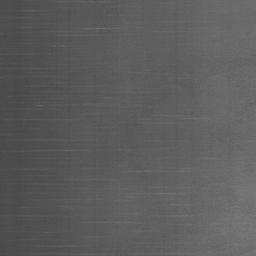Waist folding: (0, 117, 80, 172), (129, 169, 198, 196), (40, 243, 101, 254), (49, 26, 111, 31), (96, 220, 126, 225), (65, 178, 97, 182), (132, 251, 192, 253), (173, 213, 194, 218), (60, 2, 106, 4), (21, 8, 37, 13)
